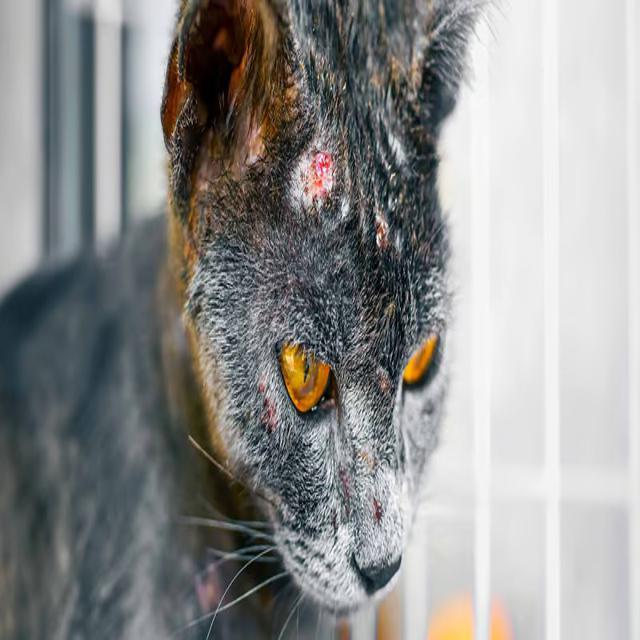ringworm: (275, 155, 353, 224), (376, 214, 390, 250)
